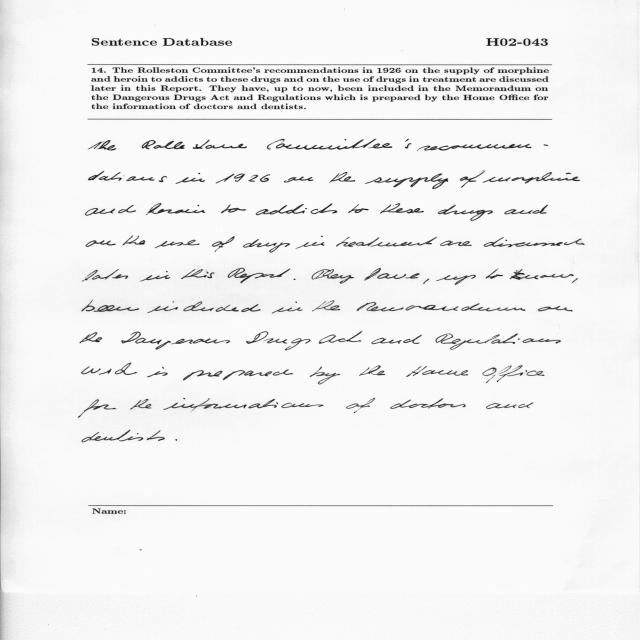word: (163, 398, 324, 413), (436, 269, 574, 285), (436, 333, 561, 350), (122, 332, 231, 350), (267, 139, 411, 150), (357, 302, 525, 311), (78, 399, 152, 418), (294, 268, 381, 284), (183, 369, 293, 381), (365, 174, 448, 189), (246, 332, 311, 351), (483, 172, 580, 184), (482, 365, 545, 383), (142, 140, 247, 150), (484, 237, 585, 247), (82, 430, 165, 442), (228, 268, 290, 283), (417, 144, 548, 151), (256, 204, 337, 215), (272, 301, 340, 314), (438, 205, 493, 221), (89, 171, 167, 182), (183, 301, 261, 312), (390, 398, 466, 409), (146, 203, 205, 215), (82, 300, 139, 312), (406, 366, 468, 377), (82, 363, 137, 375), (243, 239, 290, 253), (86, 236, 145, 247), (370, 237, 437, 246), (319, 331, 363, 344), (86, 205, 136, 216), (216, 174, 270, 184), (310, 367, 340, 385), (371, 335, 422, 345), (380, 203, 424, 214), (82, 269, 119, 282), (336, 237, 379, 247), (460, 171, 485, 188), (505, 205, 548, 214), (296, 236, 325, 249), (212, 236, 235, 252), (148, 301, 178, 313), (155, 240, 199, 248), (346, 398, 375, 410), (486, 402, 534, 409), (176, 173, 205, 184), (89, 140, 117, 151), (140, 271, 170, 281), (329, 172, 355, 183), (359, 365, 385, 376), (181, 269, 209, 279), (80, 332, 102, 343), (221, 205, 246, 214), (147, 367, 168, 377), (348, 204, 369, 213), (538, 306, 573, 311), (284, 177, 313, 183), (377, 273, 406, 279), (440, 241, 472, 246), (406, 273, 420, 279), (113, 274, 129, 279), (207, 272, 214, 278), (424, 279, 430, 284), (572, 278, 578, 283), (354, 411, 358, 414), (175, 439, 177, 441)
